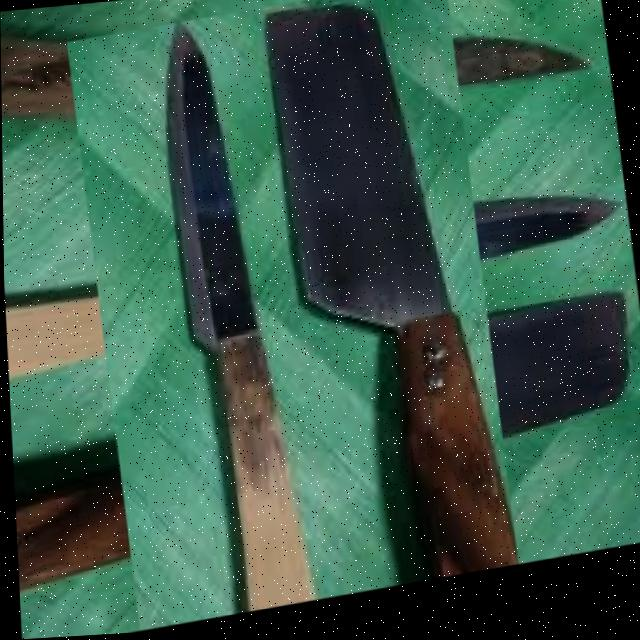knife: (261, 0, 518, 596), (158, 16, 311, 617)
